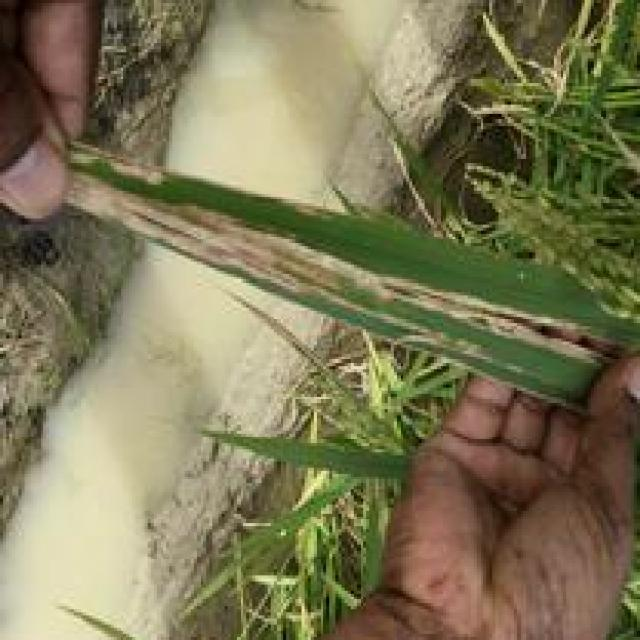Bacterial_Leaf_Blight: (138, 228, 606, 366)
